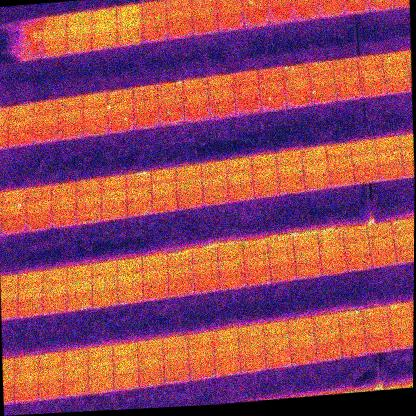Diode: (386, 302, 414, 321), (126, 173, 151, 189)
Hotspot: (159, 106, 185, 126), (39, 351, 65, 370), (137, 339, 163, 358), (26, 199, 52, 217), (107, 115, 133, 133), (261, 95, 287, 113), (338, 310, 364, 328), (167, 251, 193, 268), (1, 202, 27, 219), (58, 96, 84, 113), (133, 85, 159, 102), (308, 61, 334, 78), (238, 325, 264, 342), (263, 321, 289, 338), (362, 307, 388, 324), (312, 88, 337, 105), (158, 80, 183, 97), (283, 64, 308, 81), (391, 218, 414, 236), (286, 77, 310, 94), (126, 186, 151, 202), (108, 89, 133, 105), (183, 78, 208, 94), (167, 10, 193, 25), (108, 103, 133, 118), (83, 93, 108, 108), (344, 0, 369, 15), (242, 0, 267, 13), (368, 0, 394, 12), (317, 0, 342, 4)
Normal: (7, 128, 35, 148), (66, 36, 93, 56), (278, 175, 306, 194), (118, 284, 144, 304), (168, 278, 194, 298), (219, 271, 245, 291), (41, 267, 67, 287), (1, 216, 27, 236), (33, 123, 59, 143), (16, 300, 43, 319), (41, 297, 68, 316), (193, 275, 220, 294), (50, 181, 77, 200), (75, 177, 102, 196), (82, 118, 109, 137), (133, 111, 160, 130), (217, 13, 244, 32), (316, 343, 343, 362), (75, 192, 103, 210), (245, 268, 271, 287), (17, 271, 43, 290), (26, 214, 52, 233), (102, 202, 128, 221), (14, 384, 40, 403), (185, 104, 211, 123), (235, 97, 261, 116), (164, 364, 190, 383), (215, 358, 241, 377), (142, 26, 168, 45), (192, 17, 218, 36), (341, 339, 367, 358), (214, 343, 240, 362), (339, 324, 365, 343), (112, 342, 138, 361), (188, 331, 214, 350), (142, 283, 169, 301), (270, 265, 297, 283), (41, 282, 68, 300), (294, 246, 321, 264), (92, 261, 119, 279), (217, 244, 244, 262), (228, 184, 255, 202), (253, 180, 280, 198), (303, 173, 330, 191), (101, 188, 128, 206), (354, 166, 381, 184), (378, 163, 405, 181), (63, 380, 90, 398), (57, 121, 84, 139), (32, 99, 59, 117), (166, 23, 193, 41), (66, 24, 93, 42), (66, 11, 93, 29), (66, 265, 94, 282), (388, 316, 413, 335), (67, 293, 93, 311), (93, 290, 119, 308), (296, 261, 322, 279), (321, 257, 347, 275), (346, 254, 372, 272), (370, 250, 396, 268), (117, 271, 143, 289), (243, 240, 269, 258), (51, 211, 77, 229), (76, 206, 102, 224), (152, 196, 178, 214), (203, 188, 229, 206), (101, 174, 127, 192), (89, 376, 115, 394), (210, 101, 236, 119), (286, 91, 312, 109), (336, 84, 362, 102), (234, 83, 260, 101), (138, 369, 164, 387), (208, 73, 234, 91), (189, 363, 215, 381), (269, 8, 295, 26), (294, 4, 320, 22), (42, 13, 68, 31), (291, 346, 317, 364), (39, 368, 65, 386), (366, 336, 392, 354), (290, 331, 316, 349), (314, 328, 340, 346), (63, 349, 89, 367), (162, 336, 188, 354), (313, 314, 339, 332), (390, 331, 413, 351), (17, 286, 44, 303), (360, 81, 387, 98), (41, 42, 68, 59), (91, 33, 118, 50), (243, 11, 270, 28), (318, 1, 345, 18), (13, 371, 40, 388), (13, 356, 40, 373), (88, 346, 113, 364), (193, 261, 219, 278), (244, 254, 270, 271), (319, 243, 345, 260), (344, 240, 370, 257), (117, 258, 143, 275), (142, 255, 168, 272), (268, 237, 294, 254), (126, 199, 152, 216), (51, 196, 77, 213), (329, 171, 355, 188), (201, 161, 227, 178), (227, 157, 253, 174), (276, 150, 302, 167), (114, 374, 140, 391), (259, 81, 285, 98), (233, 70, 259, 87), (258, 67, 284, 84), (381, 51, 407, 68), (241, 356, 267, 373), (117, 30, 143, 47), (266, 351, 292, 368), (63, 365, 89, 382), (113, 358, 139, 375), (138, 355, 164, 372), (163, 351, 189, 368), (239, 341, 265, 358), (265, 336, 291, 353), (364, 321, 390, 338), (213, 328, 239, 345), (288, 318, 314, 335), (269, 252, 296, 268), (368, 237, 395, 253), (93, 276, 118, 293), (294, 233, 319, 250), (343, 226, 368, 243), (178, 193, 203, 210), (177, 178, 202, 195), (26, 186, 51, 203), (39, 383, 64, 400), (386, 78, 411, 95), (133, 98, 158, 115), (9, 103, 34, 120), (333, 57, 358, 74), (92, 20, 117, 37), (141, 0, 166, 17), (89, 362, 114, 379), (67, 279, 93, 295), (151, 183, 177, 199), (1, 188, 27, 204), (376, 151, 402, 167), (375, 137, 401, 153), (58, 110, 84, 126), (209, 87, 235, 103), (359, 68, 385, 84), (41, 29, 67, 45), (189, 348, 215, 364), (143, 270, 168, 286), (168, 266, 193, 282), (219, 259, 244, 275), (193, 248, 218, 264), (318, 230, 343, 246), (368, 223, 393, 239), (202, 174, 227, 190), (228, 171, 253, 187), (253, 167, 278, 183), (278, 164, 303, 180), (304, 160, 329, 176), (177, 164, 202, 180), (252, 154, 277, 170), (302, 146, 327, 162), (326, 144, 351, 160), (83, 106, 108, 122), (310, 75, 335, 91), (357, 55, 382, 71), (117, 4, 142, 20), (351, 140, 377, 155), (383, 65, 409, 80), (151, 168, 175, 184), (334, 71, 358, 87), (92, 8, 116, 24), (328, 158, 353, 173), (184, 92, 209, 107), (117, 18, 142, 33), (142, 14, 167, 29), (218, 1, 243, 16), (352, 154, 378, 168), (33, 112, 59, 126), (9, 117, 34, 131), (159, 95, 184, 109), (192, 6, 217, 20), (393, 234, 414, 250), (166, 0, 191, 13), (267, 0, 292, 11), (191, 0, 216, 9), (292, 0, 318, 7), (217, 0, 242, 4), (242, 0, 267, 2), (341, 0, 366, 1)
Shadow: (17, 17, 43, 35), (17, 45, 42, 63), (19, 32, 42, 48), (0, 20, 19, 38), (0, 49, 19, 66), (0, 35, 18, 50)
